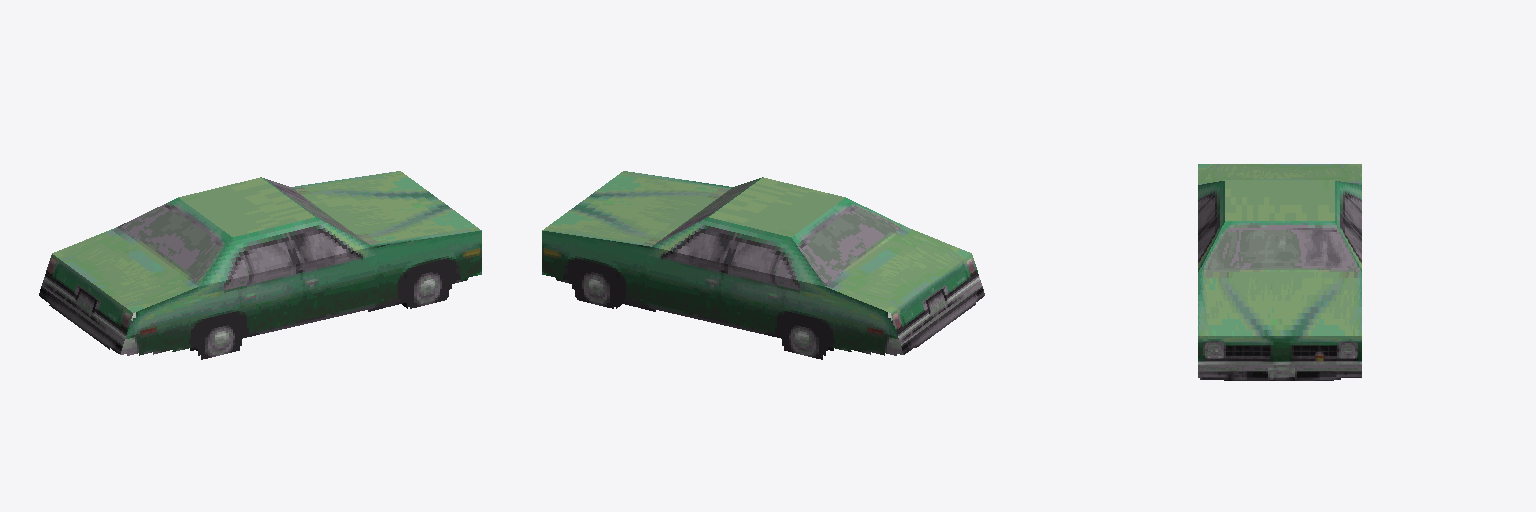
3 views of the same model, side by side, from view 1: azimuth 30°, elevation 25°; view 2: azimuth 150°, elevation 25°; view 3: azimuth 270°, elevation 25° (orthographic).
Size of the model in its own units: 666 by 175 by 254.
1 materials, 1 textured.